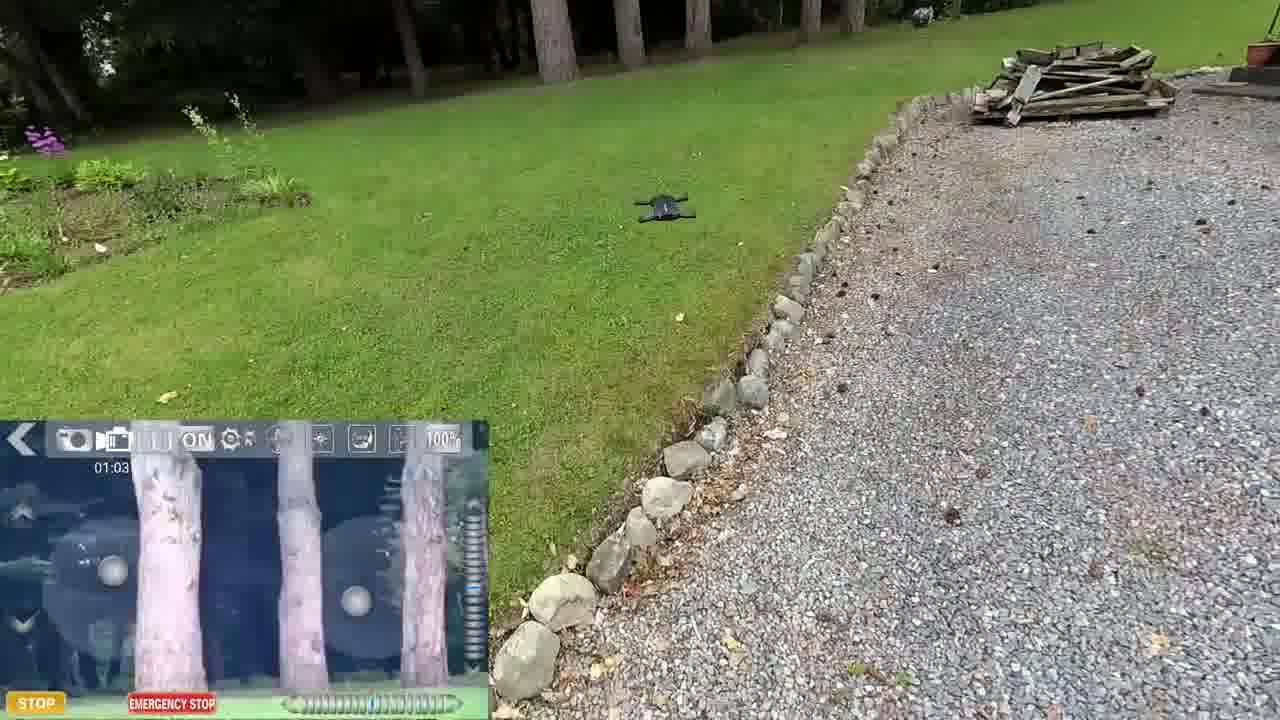drone: (628, 193, 702, 225)
